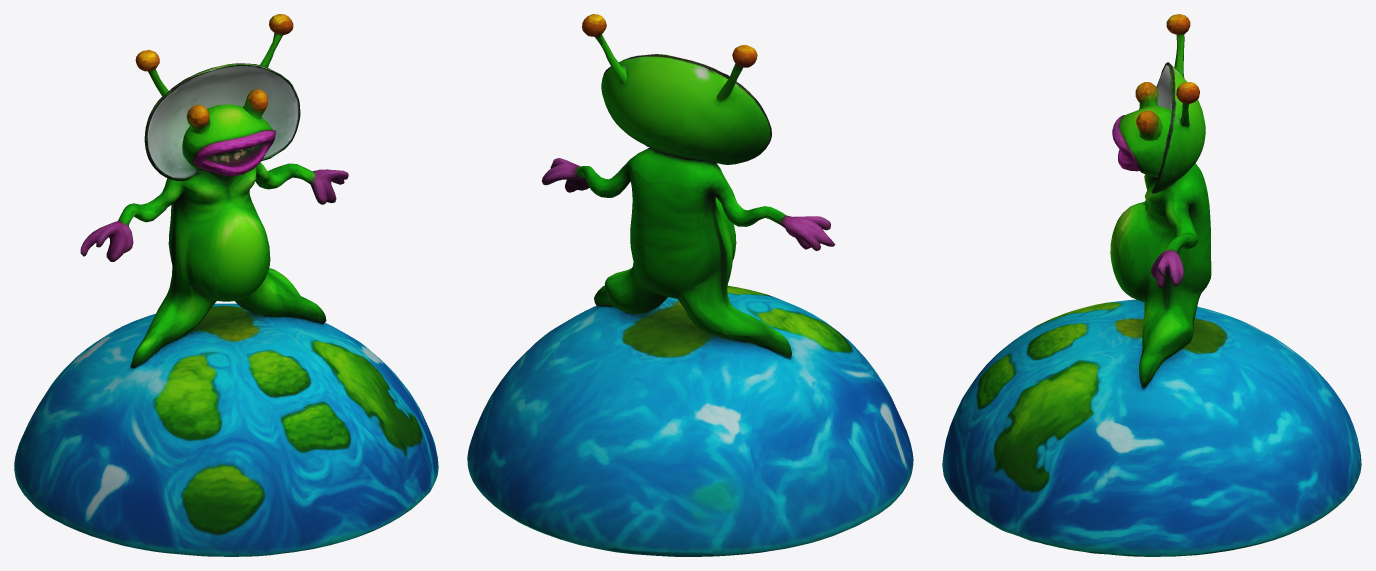
File: dominalien.fbx
3 views of the same model, side by side, from view 1: azimuth 30°, elevation 25°; view 2: azimuth 150°, elevation 25°; view 3: azimuth 270°, elevation 25° (orthographic). The views are drawn at different scales.
Visible parts, largest first — view 1: node_ad28ac1c_0dbb_41e1_adca_042cf17c9fba_mesh0; view 2: node_ad28ac1c_0dbb_41e1_adca_042cf17c9fba_mesh0; view 3: node_ad28ac1c_0dbb_41e1_adca_042cf17c9fba_mesh0.
Boxes of the visible parts, left/top/right/bottom form: node_ad28ac1c_0dbb_41e1_adca_042cf17c9fba_mesh0: left=14, top=14, right=438, bottom=556; node_ad28ac1c_0dbb_41e1_adca_042cf17c9fba_mesh0: left=467, top=14, right=913, bottom=556; node_ad28ac1c_0dbb_41e1_adca_042cf17c9fba_mesh0: left=942, top=14, right=1361, bottom=556.
Bounding box in the file's own units: 91.26 × 99.96 × 90.02.
Materials: 1 (1 with a texture image).
